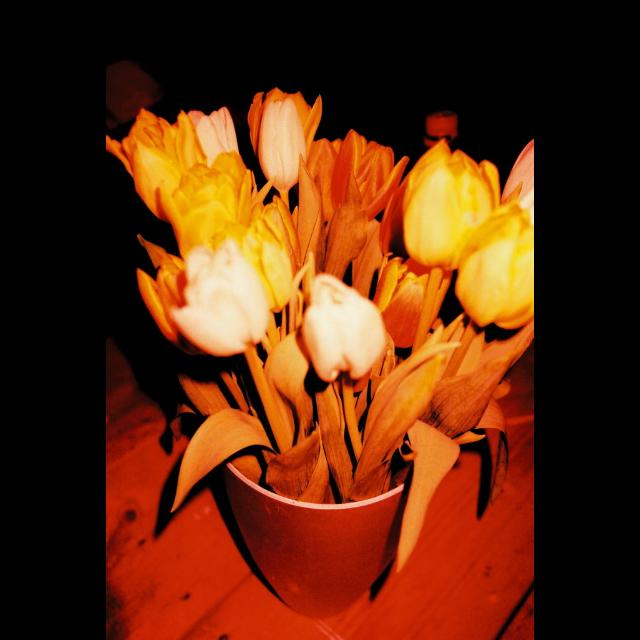Flower: (108, 86, 322, 356), (399, 141, 506, 269), (456, 200, 534, 332), (301, 270, 385, 380), (327, 130, 417, 232), (418, 358, 508, 442), (378, 283, 444, 351), (500, 138, 534, 202)
